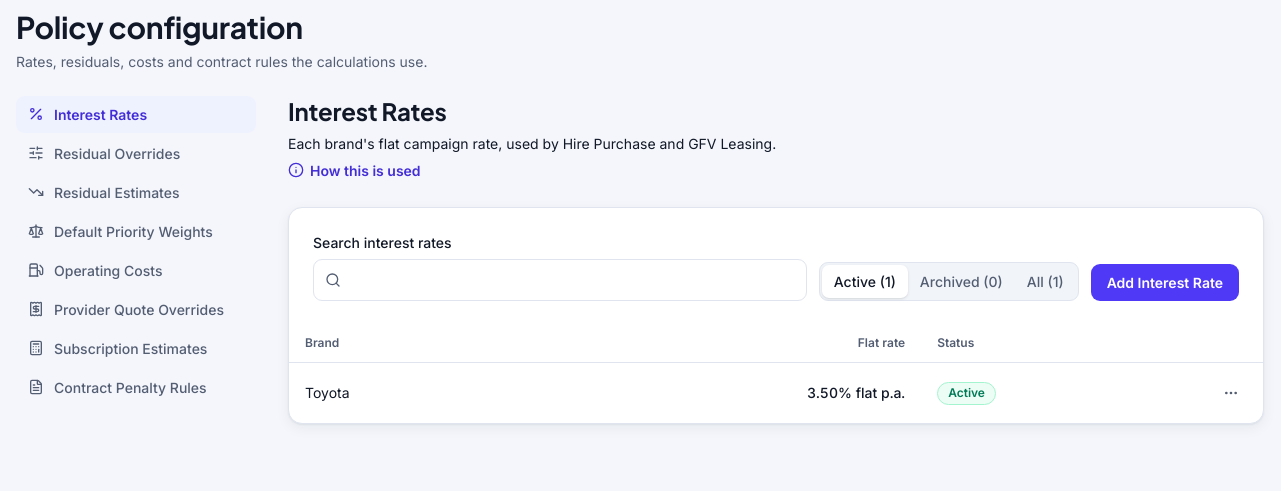
AdminPolicyPage › renames the matrix tab to Residual Overrides and explains that it is optional
The image size is (1281, 491).
Expected: the text "3.50% flat p.a." is shown, top-left (523, 362), bottom-right (921, 423)
Click the tab "Residual Overrides".
click(136, 153)  # box top-left (16, 134), bottom-right (256, 172)
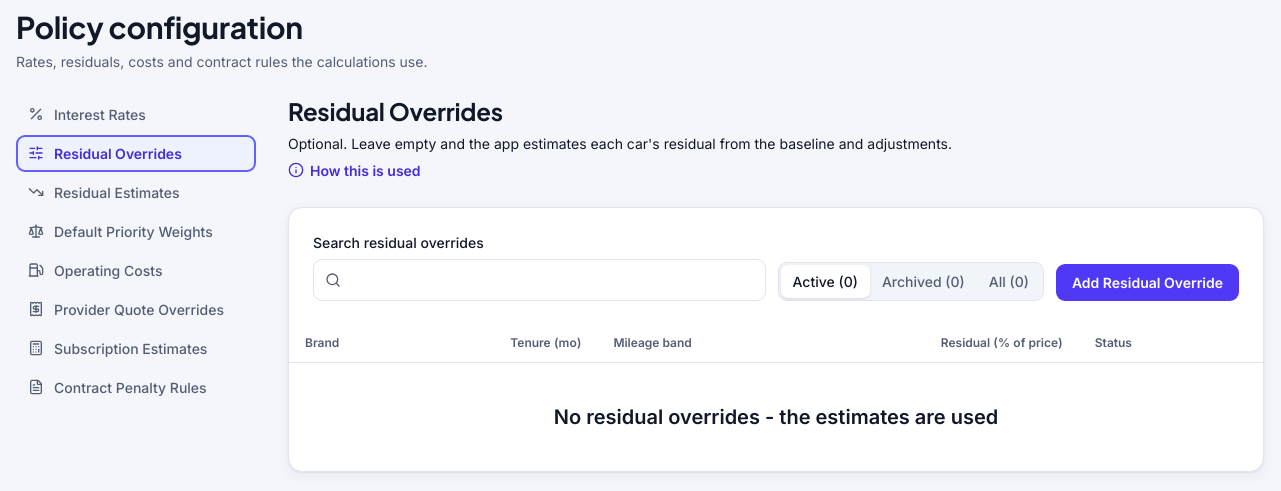
Now the text "Optional. Leave empty and the app estimates each car's residual from the baseline and adjustments." is shown, box top-left (288, 135), bottom-right (952, 152)
Now the text "No residual overrides - the estimates are used" is shown, box top-left (554, 403), bottom-right (998, 431)
